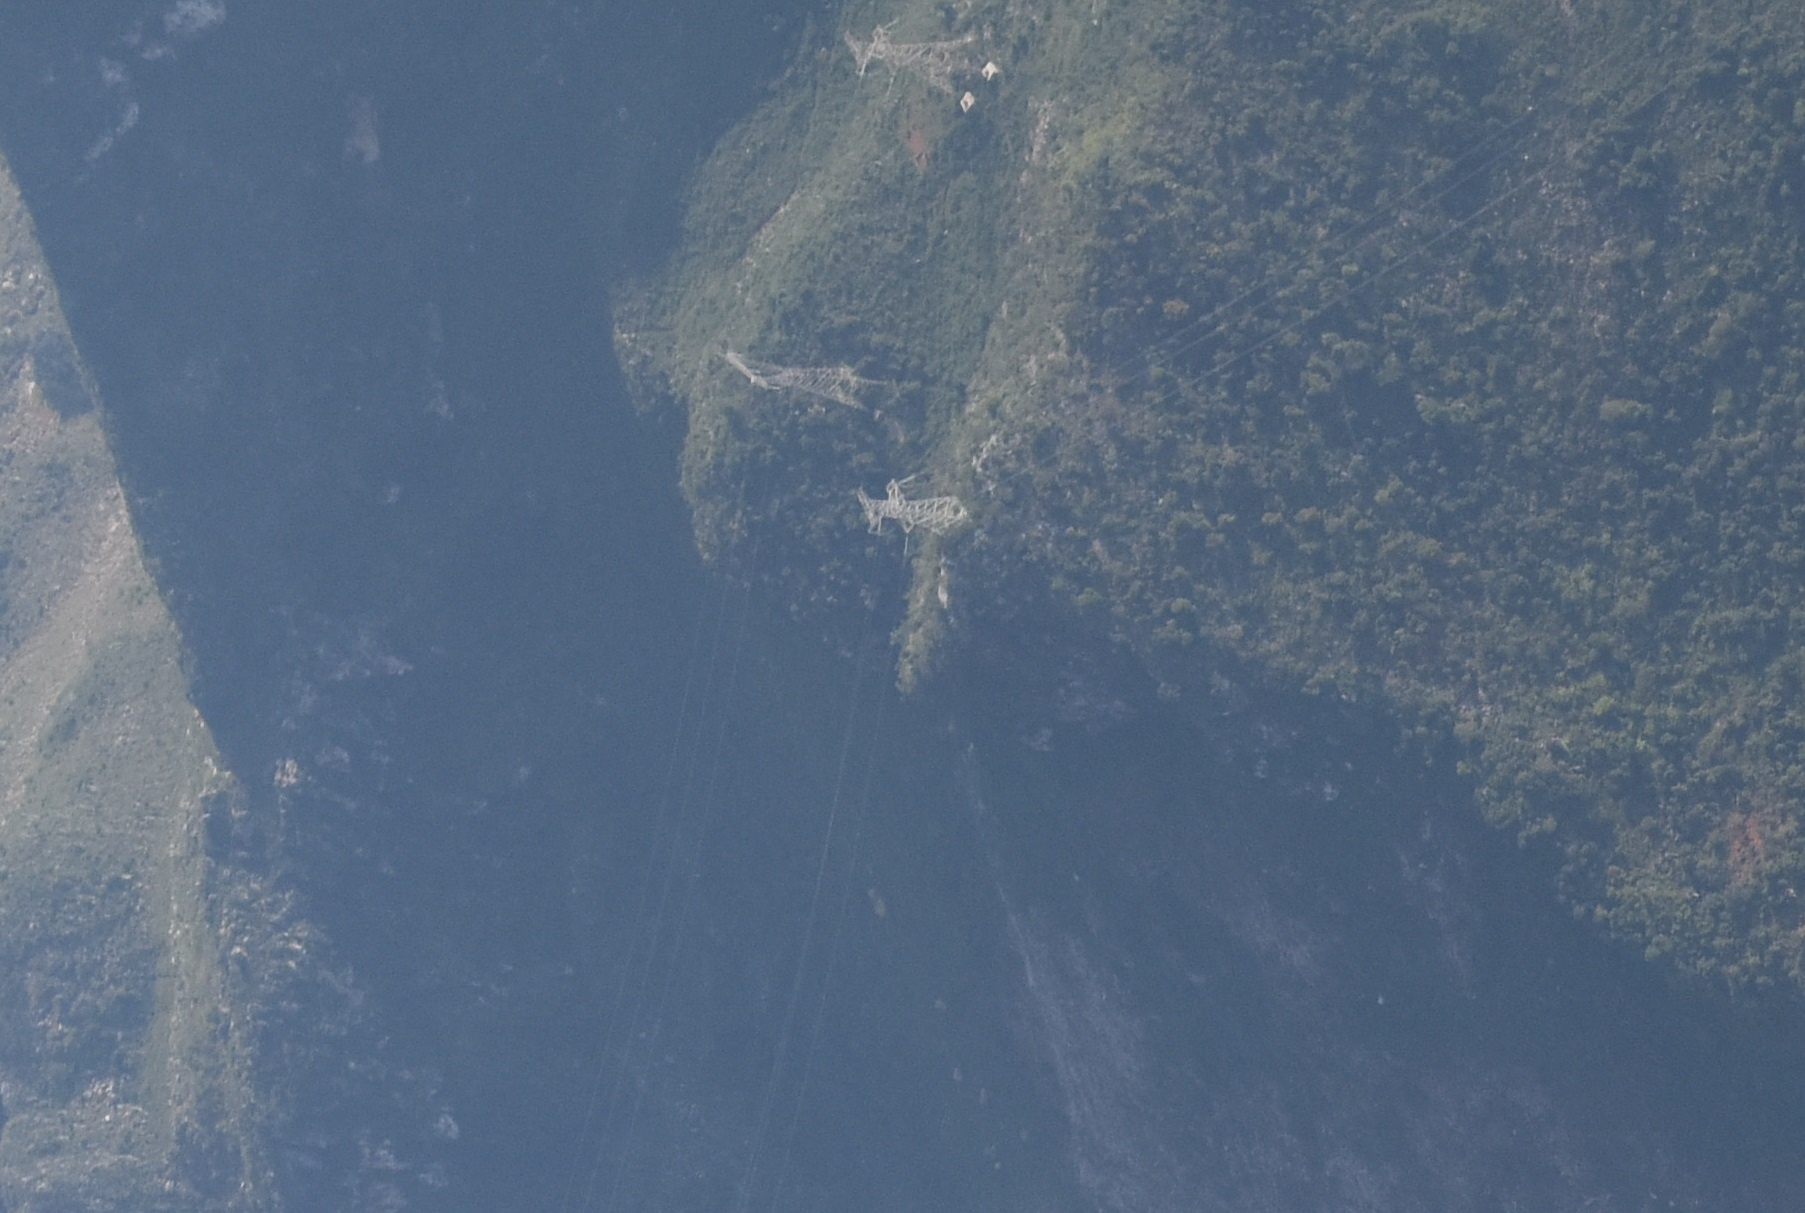cable-tower: (838, 19, 999, 125), (718, 344, 900, 432), (856, 477, 977, 554)
